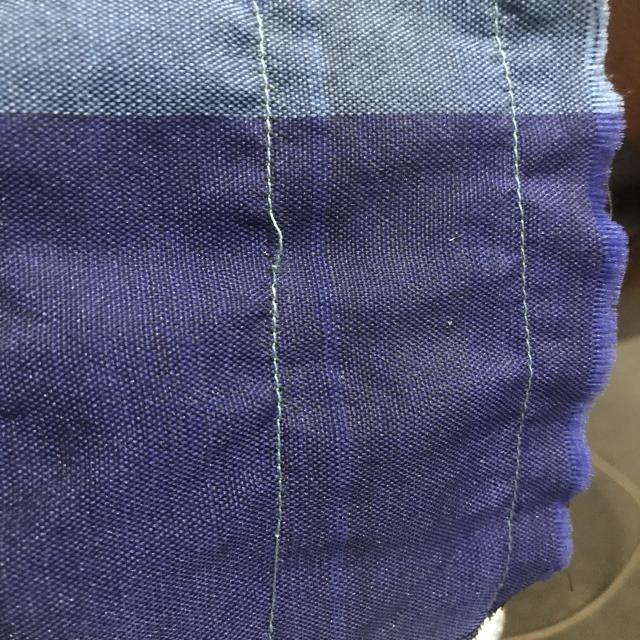good: (252, 301, 295, 364)
skip: (240, 194, 306, 277)
